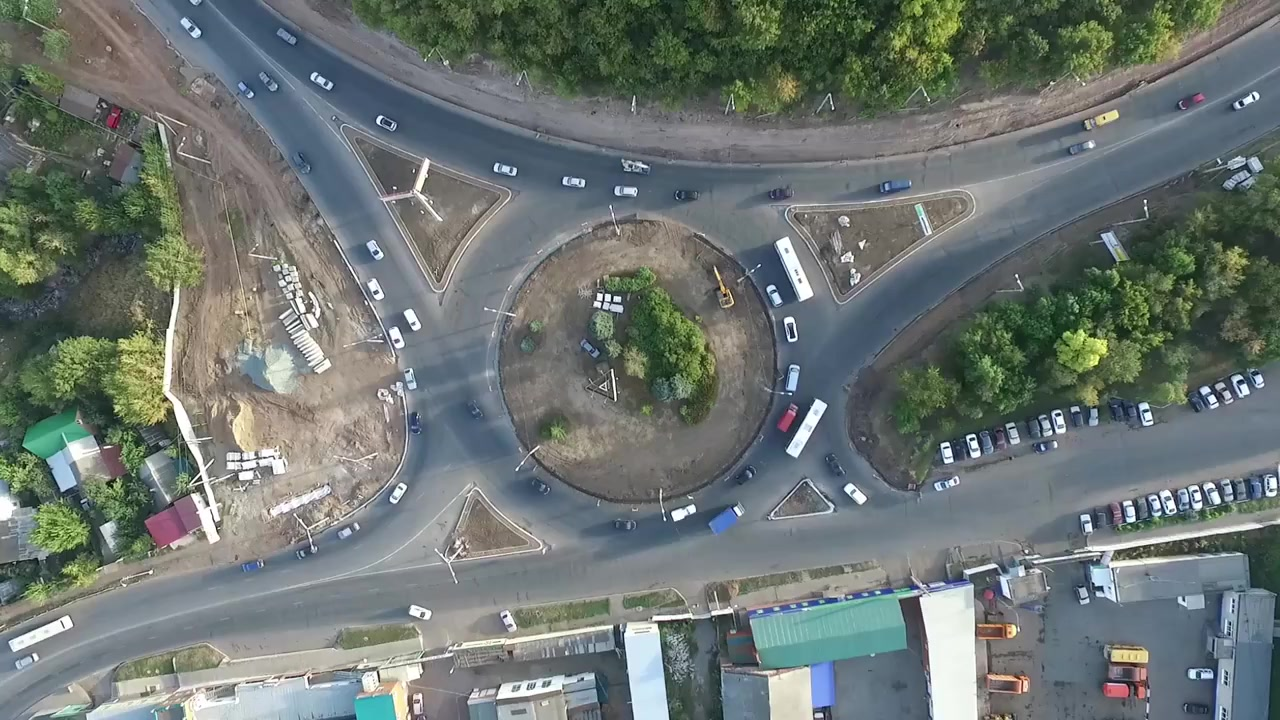car: (772, 234, 816, 304), (784, 397, 830, 460), (5, 613, 75, 652), (707, 500, 747, 536), (985, 672, 1030, 696), (1103, 643, 1149, 664), (1081, 108, 1122, 131), (1102, 680, 1147, 700), (975, 621, 1018, 641), (1106, 663, 1148, 682), (776, 402, 799, 434), (1230, 89, 1261, 112), (1175, 91, 1207, 112), (877, 177, 914, 194), (842, 483, 869, 506), (669, 502, 698, 523), (308, 71, 336, 92), (621, 158, 653, 176), (824, 453, 847, 478), (733, 463, 758, 486), (783, 362, 801, 393), (387, 481, 409, 506), (335, 521, 362, 541), (931, 474, 961, 492), (179, 15, 202, 38), (1198, 385, 1220, 409), (1066, 139, 1097, 156), (365, 276, 386, 301), (402, 308, 423, 333), (1229, 373, 1250, 398), (13, 651, 40, 670), (498, 609, 519, 633), (364, 238, 385, 262), (1202, 479, 1220, 506), (292, 151, 312, 175), (1214, 381, 1234, 405), (765, 283, 784, 308), (387, 325, 406, 350), (240, 557, 266, 575), (1159, 489, 1177, 515), (529, 476, 552, 496), (406, 604, 433, 621), (1050, 408, 1067, 435), (1032, 438, 1059, 455), (782, 316, 799, 343), (1185, 389, 1204, 413), (1246, 365, 1265, 389), (295, 543, 320, 561), (258, 71, 279, 92), (580, 338, 601, 359), (465, 399, 485, 421), (275, 27, 298, 46), (611, 517, 638, 533), (1138, 399, 1154, 426), (978, 429, 994, 456), (374, 114, 398, 132), (1187, 484, 1203, 511), (492, 162, 519, 178), (1181, 701, 1209, 716), (408, 411, 424, 437), (1246, 475, 1262, 501), (560, 174, 587, 189), (965, 433, 981, 458), (1262, 473, 1278, 498), (1186, 667, 1214, 681), (1107, 397, 1124, 420), (769, 186, 795, 201), (403, 366, 418, 392), (1175, 487, 1190, 513), (1078, 512, 1094, 536), (1107, 501, 1123, 525), (1218, 478, 1234, 502), (237, 80, 256, 100), (612, 184, 639, 198), (1147, 492, 1162, 517), (1232, 477, 1247, 502), (940, 440, 954, 466), (673, 189, 701, 202), (412, 691, 426, 717), (1037, 413, 1052, 437), (1005, 421, 1020, 445), (1074, 583, 1090, 605), (992, 426, 1006, 451), (1025, 415, 1040, 438), (1122, 499, 1136, 523), (1069, 405, 1083, 429), (1135, 497, 1148, 521), (952, 437, 965, 461), (1094, 506, 1107, 529), (1087, 403, 1099, 427), (1123, 399, 1137, 419)
